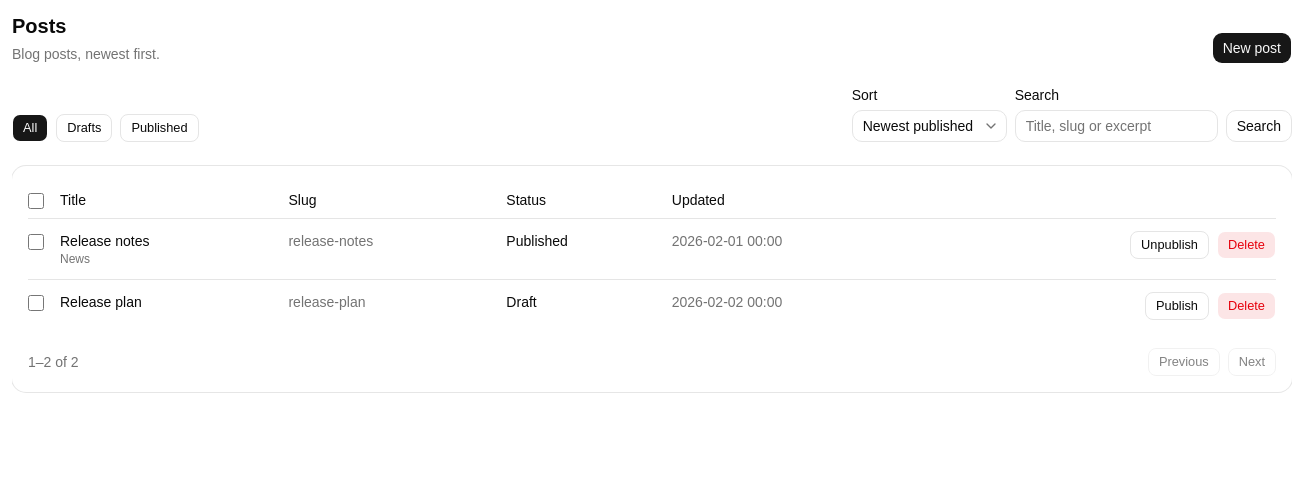
Test case: acting on a selection › publishes the selection in one request
This screenshot has width=1304, height=480.
Expected: the link "Release notes" is shown, [60,233,150,249]
Click the checkbox named "Select everything on this page": (36,201) [28,193,44,209]
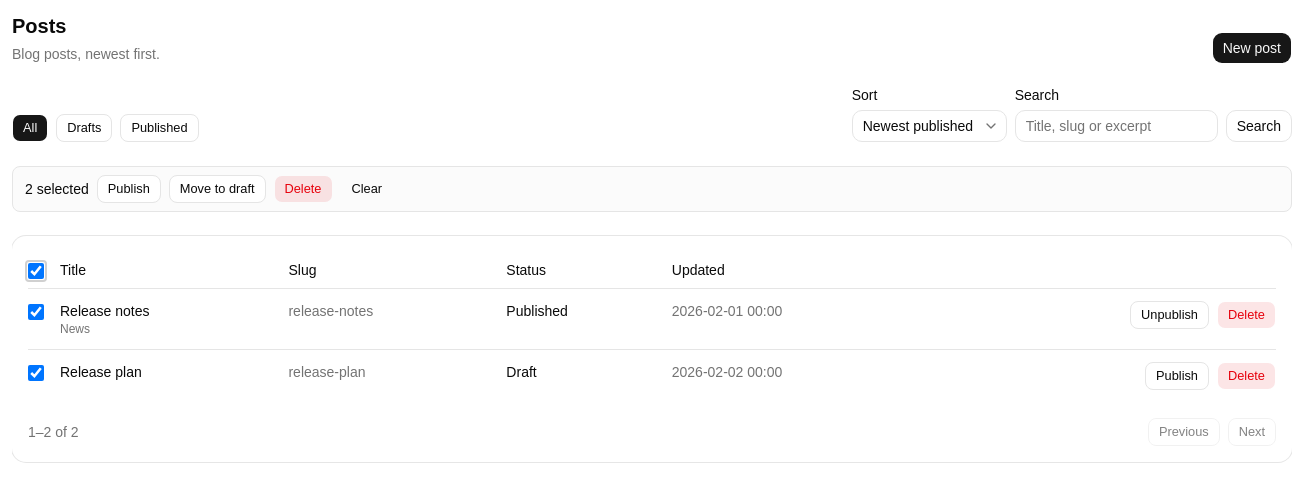
Click the button "Publish" next to "2 selected": (129,189) [97,175,161,203]
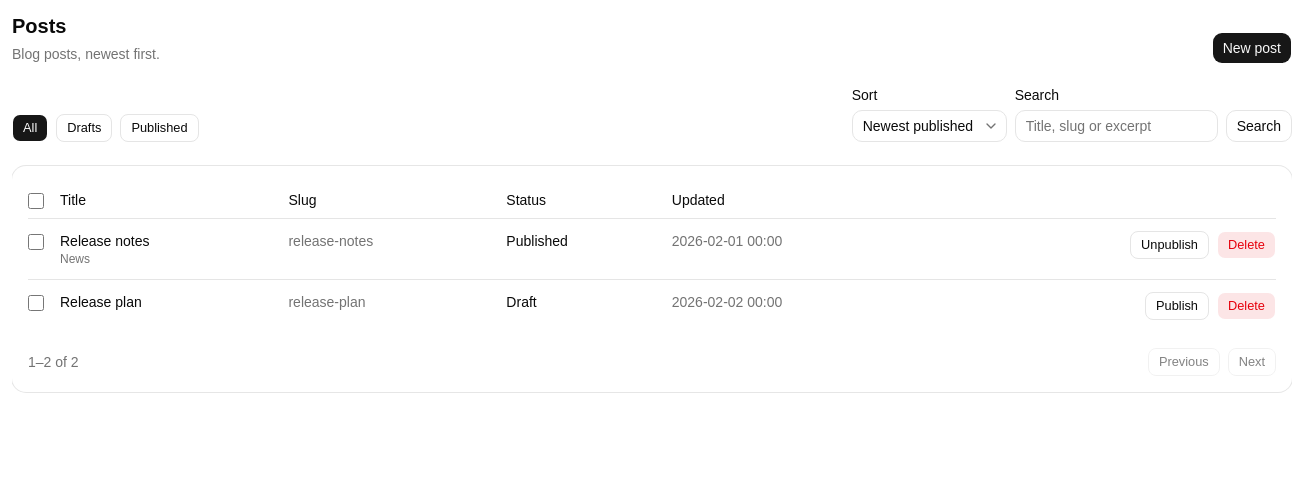
Expected: the message with test id "bulk-bar" is gone
